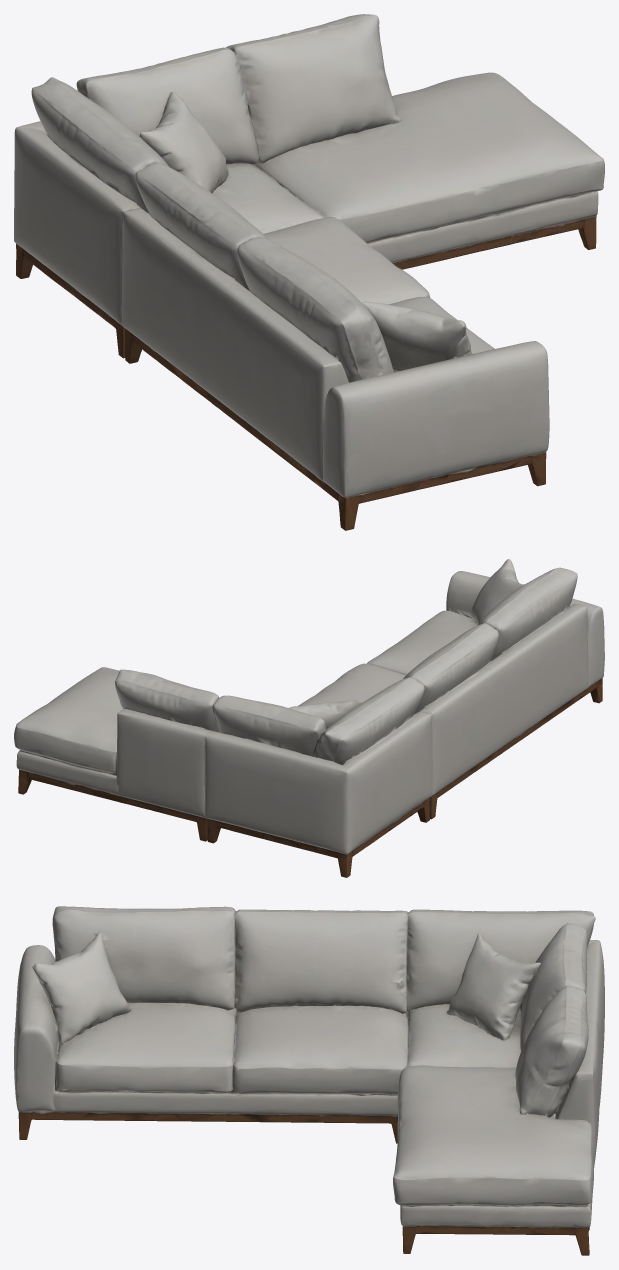
File: caravanafurniture-com-products-mid-century-modern-chenille-s-a1cac3.glb
The picture shows the model from 3 angles, top to bottom: view 1: azimuth 30°, elevation 25°; view 2: azimuth 150°, elevation 25°; view 3: azimuth 270°, elevation 25°; orthographic projection. The views are drawn at different scales.
Parts seen in each view (by area): view 1: tripo_node_27942213-b3b0-4bb0-8ed4-886dc6cd1abd; view 2: tripo_node_27942213-b3b0-4bb0-8ed4-886dc6cd1abd; view 3: tripo_node_27942213-b3b0-4bb0-8ed4-886dc6cd1abd.
Boxes of the visible parts, left/top/right/bottom form: tripo_node_27942213-b3b0-4bb0-8ed4-886dc6cd1abd: left=14, top=14, right=604, bottom=530; tripo_node_27942213-b3b0-4bb0-8ed4-886dc6cd1abd: left=14, top=559, right=604, bottom=877; tripo_node_27942213-b3b0-4bb0-8ed4-886dc6cd1abd: left=14, top=906, right=604, bottom=1255.
Bounding box in the file's own units: 0.8109 × 0.3092 × 1.
1 material, 1 textured.
